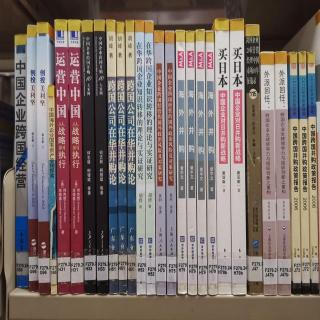book-spine: (228, 19, 248, 296), (243, 23, 263, 295), (214, 17, 233, 296), (53, 19, 72, 295), (67, 20, 85, 296), (102, 19, 119, 295), (93, 17, 109, 295), (260, 52, 278, 296), (80, 19, 96, 293), (275, 52, 292, 297), (35, 21, 50, 295), (287, 51, 303, 295), (14, 36, 29, 287), (163, 30, 177, 295), (205, 30, 219, 294), (305, 50, 320, 295), (115, 19, 128, 296), (124, 18, 137, 295), (134, 19, 147, 295), (26, 25, 39, 293), (175, 29, 188, 294), (154, 31, 167, 295), (144, 21, 156, 294), (185, 29, 197, 295), (196, 29, 208, 295), (297, 51, 310, 296), (47, 84, 58, 296)
